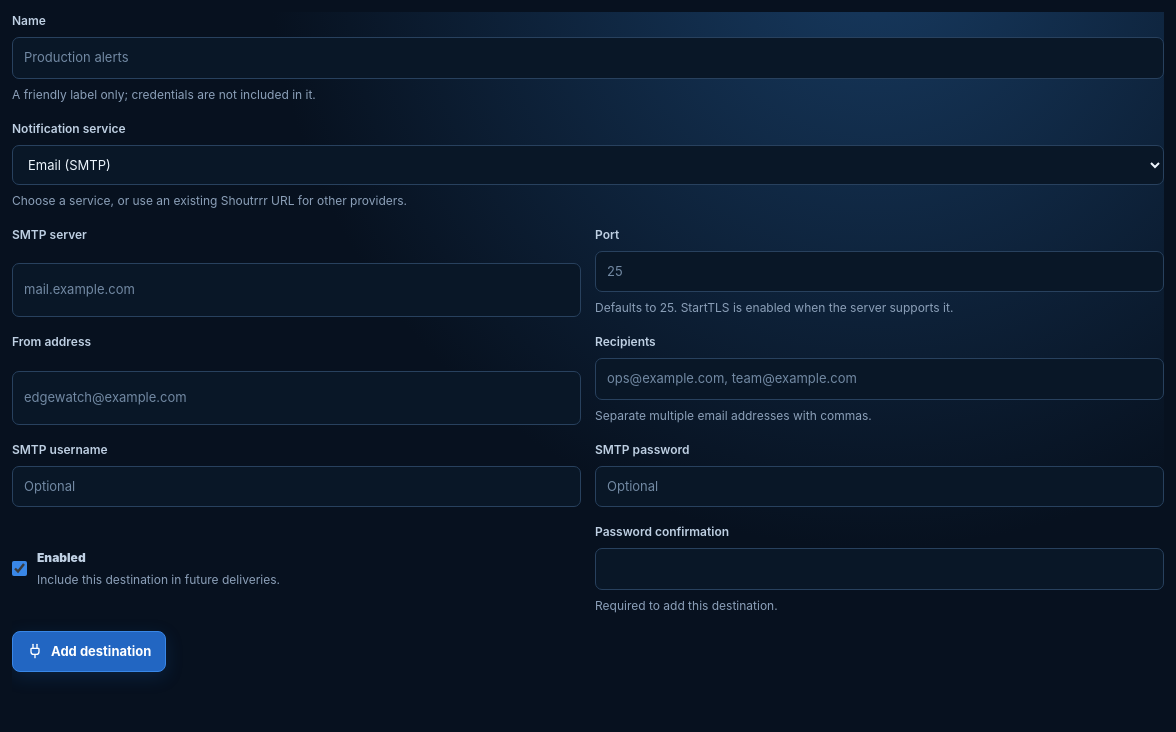
NotificationDestinationCreateForm › keeps edits after a failed save and redacts echoed credentials from the error
Type "Operations" into the field labelled "Name" at coordinates (588, 58), box top-left (12, 37), bottom-right (1164, 78)
Type "smtp.example.test" into the field labelled "SMTP server" at coordinates (296, 290), box top-left (12, 263), bottom-right (581, 317)
Type "edge@example.test" into the field labelled "From address" at coordinates (296, 398), box top-left (12, 370), bottom-right (581, 424)
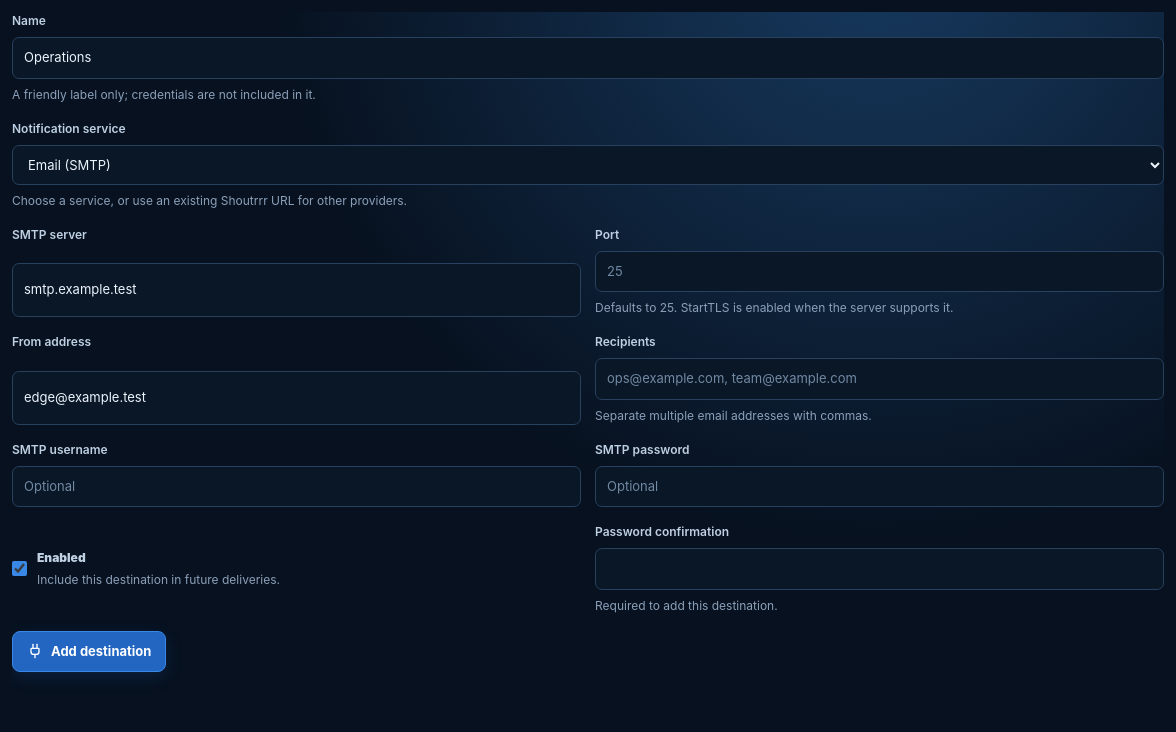
Type "ops@example.test" into the field labelled "Recipients Separate multiple email addresses with commas." at coordinates (880, 379), box top-left (595, 358), bottom-right (1164, 400)
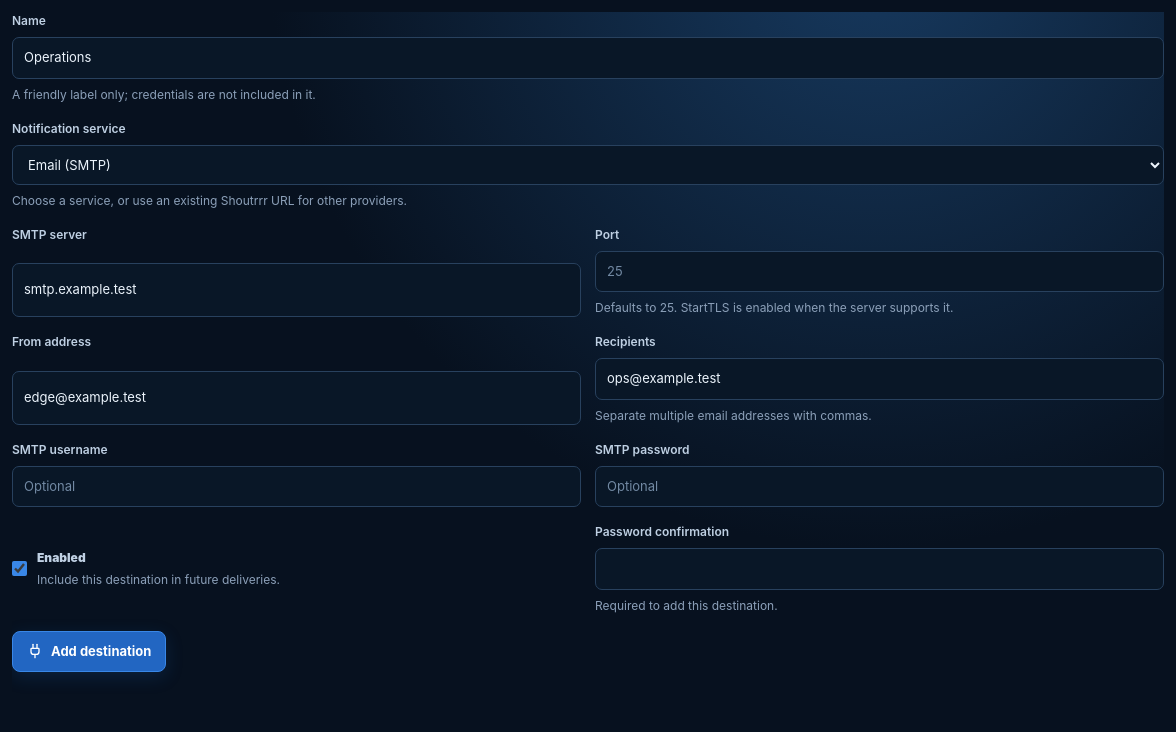
Type "smtp-user" into the field labelled "SMTP username" at coordinates (296, 486), box top-left (12, 466), bottom-right (581, 507)
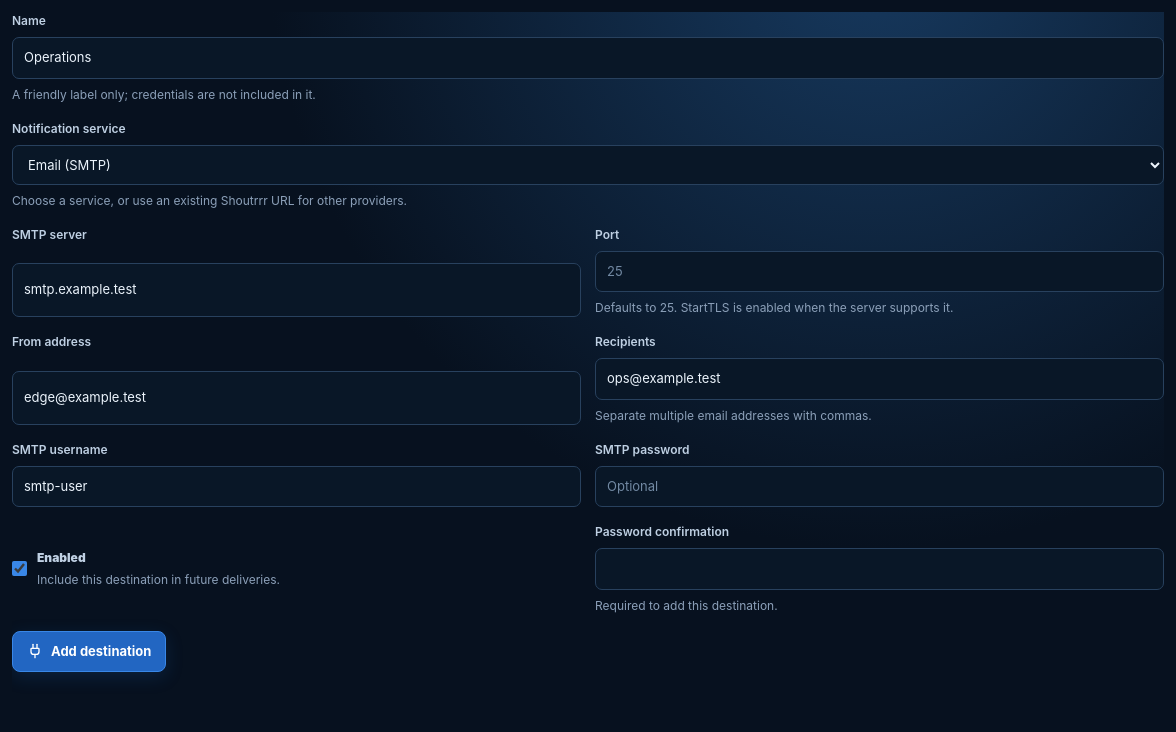
Type "smtp-secret-value" into the password field labelled "SMTP password" at coordinates (880, 486), box top-left (595, 466), bottom-right (1164, 507)
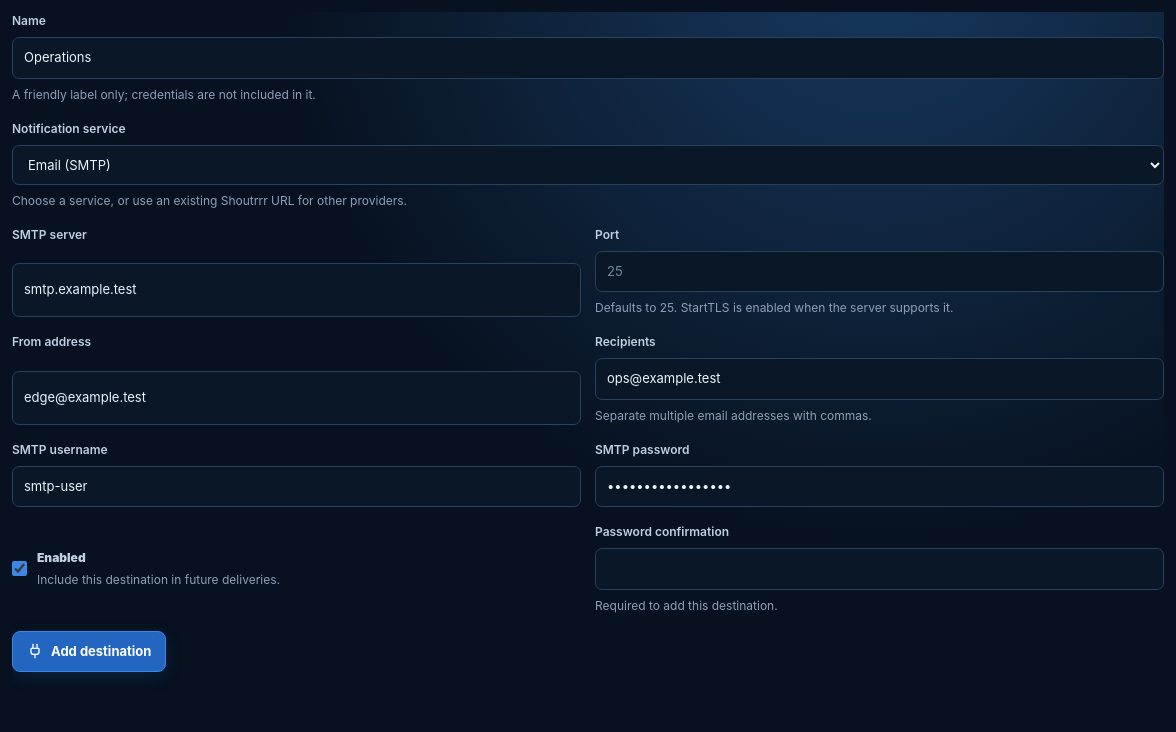
Type "account-password-value" into the password field labelled "Password confirmation Required to add this destination." at coordinates (880, 569), box top-left (595, 548), bottom-right (1164, 590)
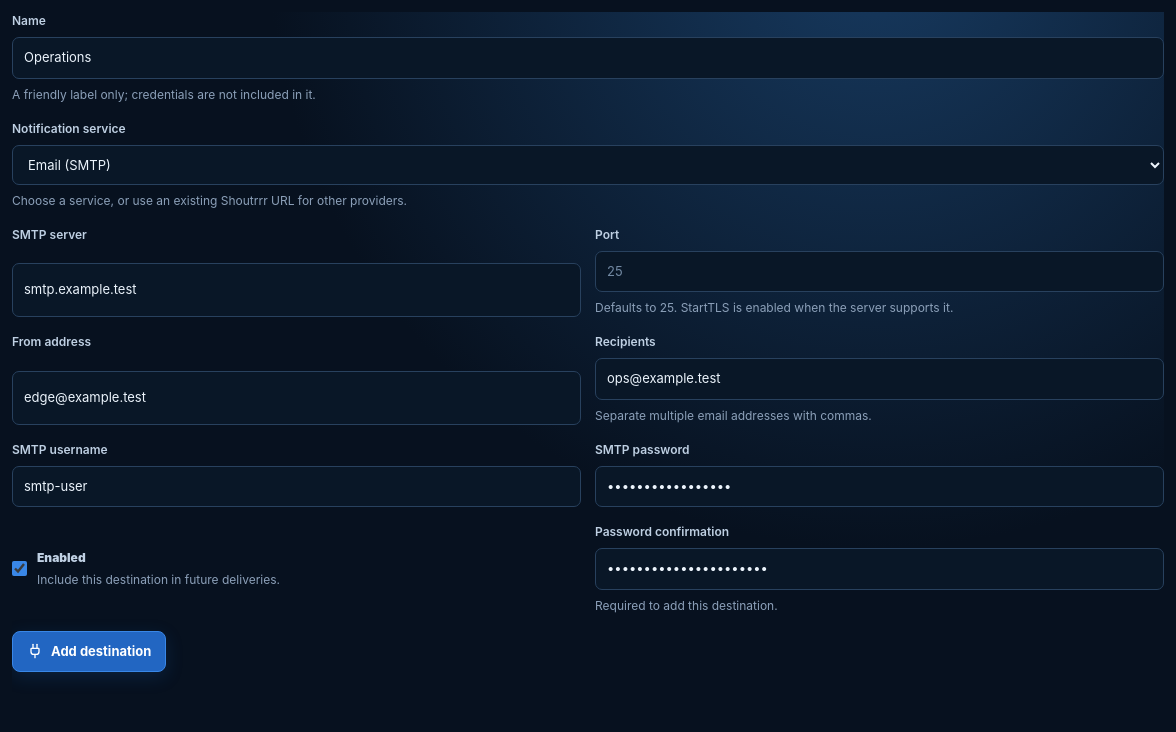
Submit the form with class "notification-destination-create-form"
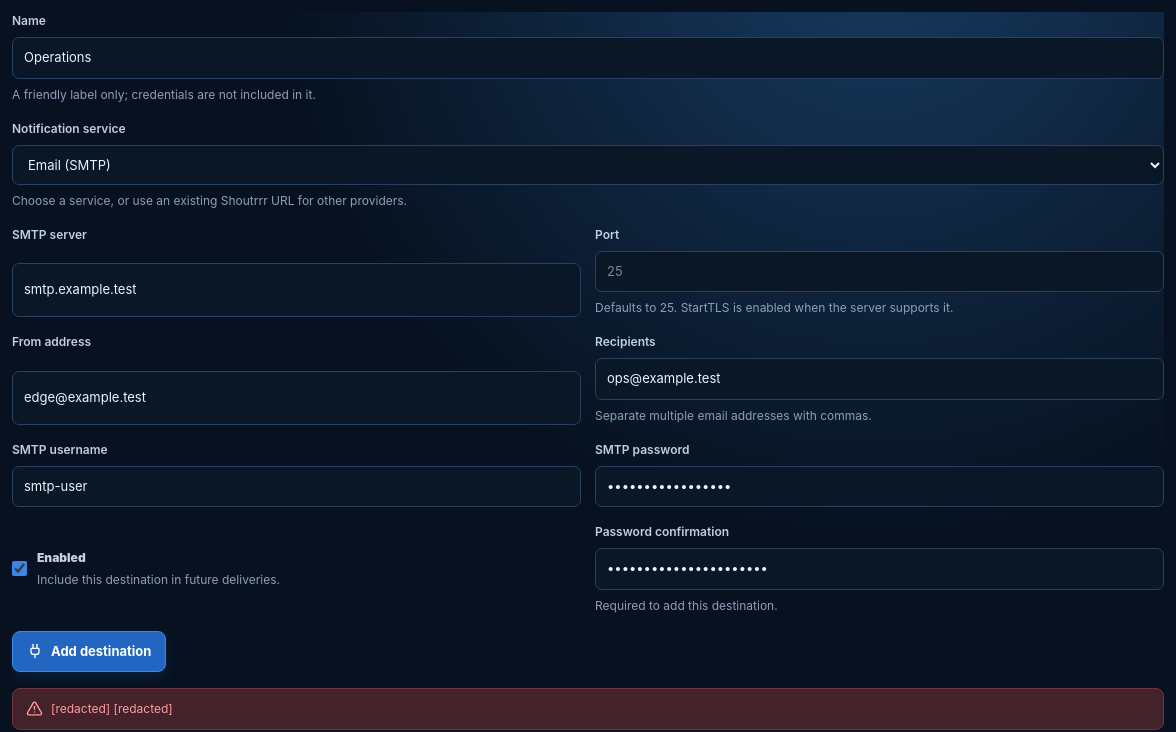
Check: the message does not show "smtp-secret-value", box top-left (12, 688), bottom-right (1164, 730)
Check: the message reads "[redacted] [redacted]", box top-left (51, 701), bottom-right (173, 716)
